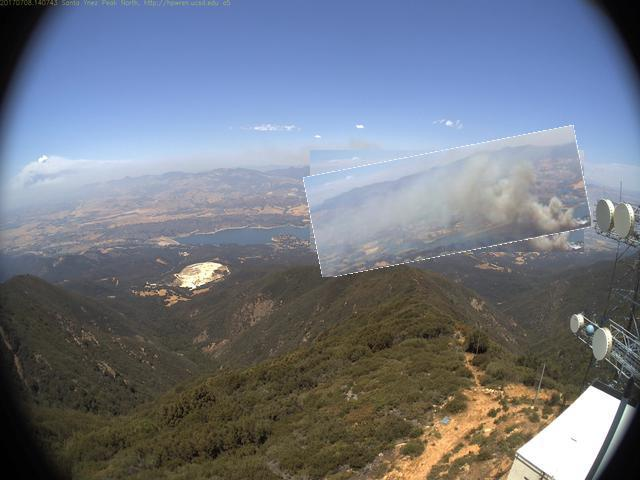smoke: (308, 139, 590, 267)
